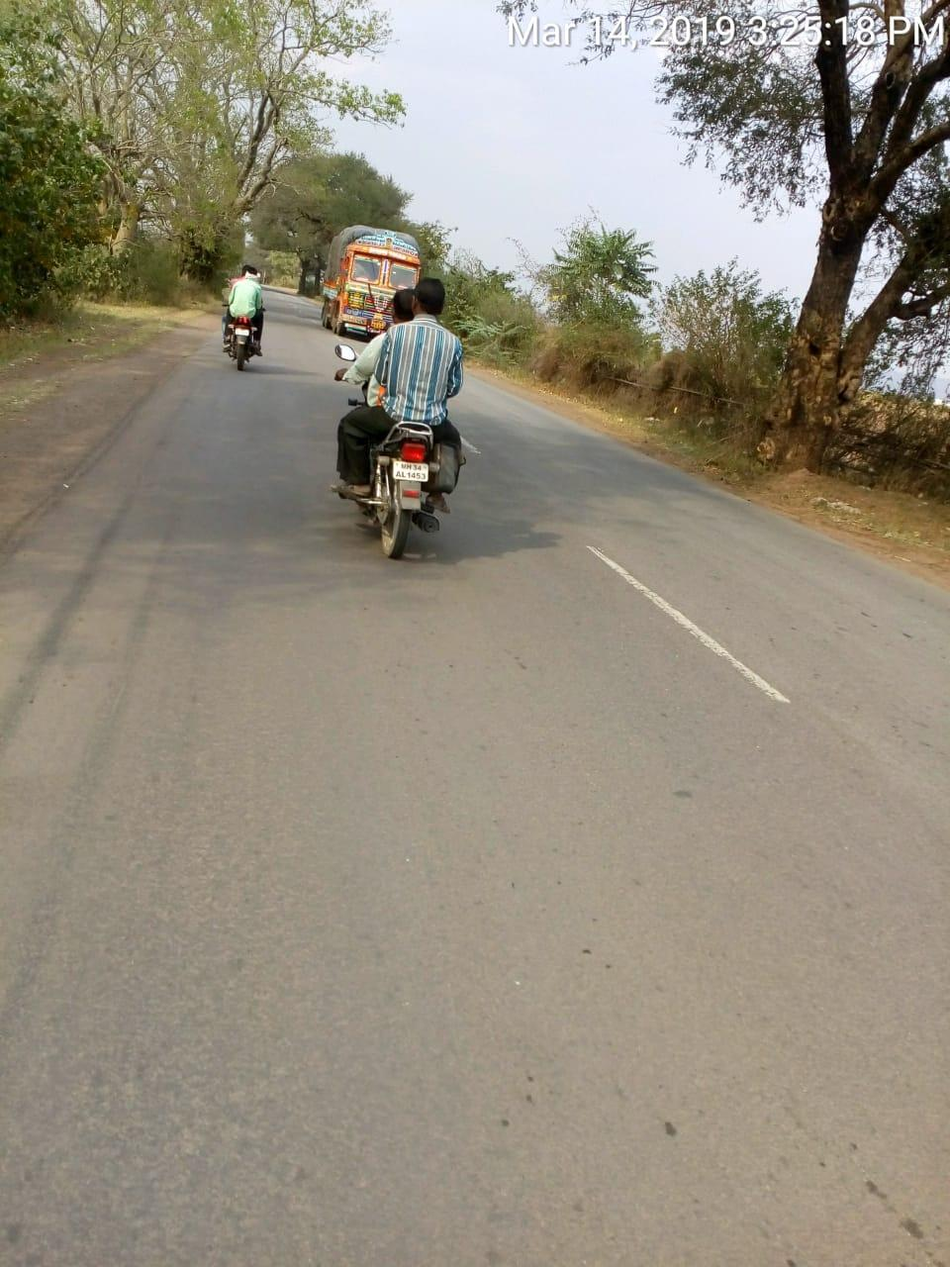plate: (390, 459, 434, 482)
